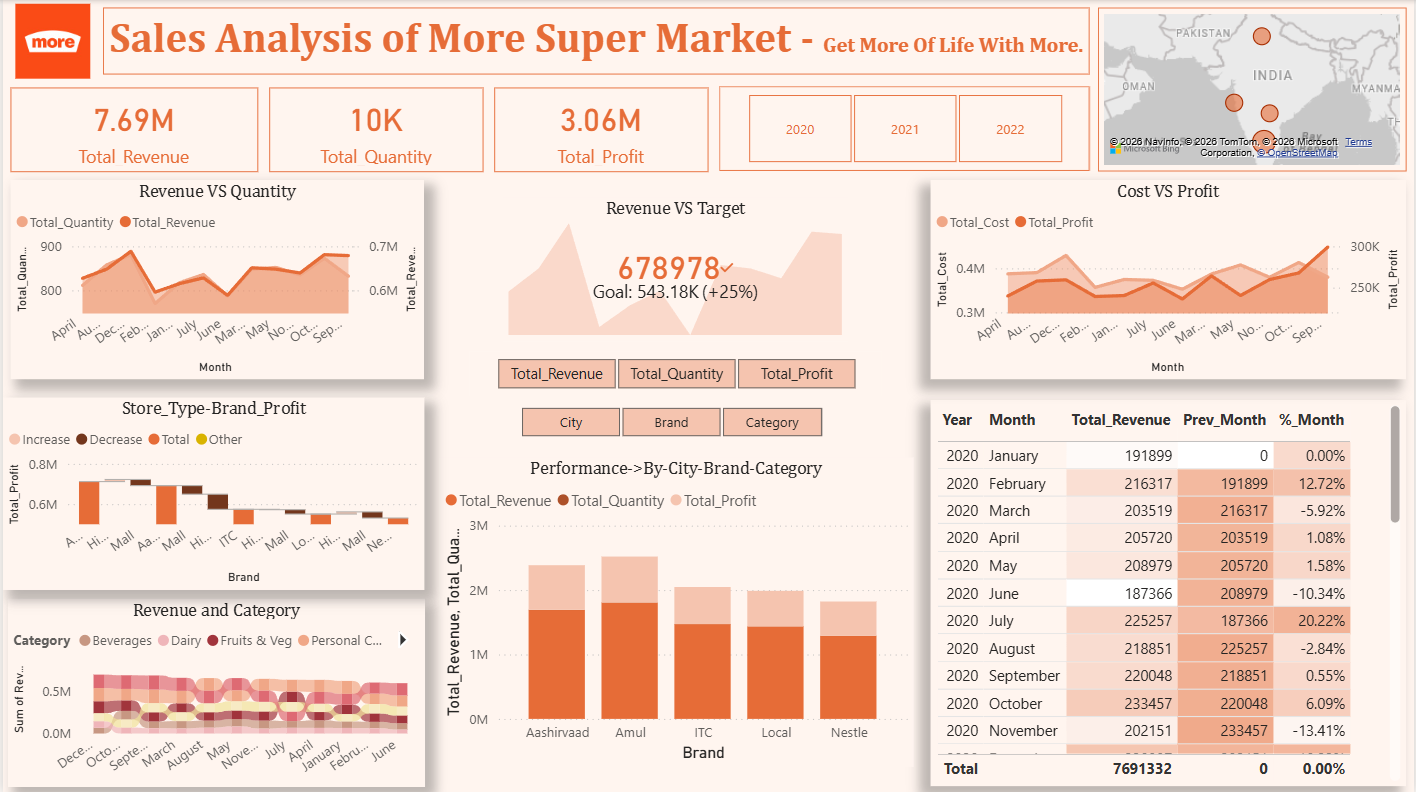

The page's visual inventory and layout, read from the dashboard file:
{"tool":"powerbi","page":{"name":"More_Sale_Analysis","canvas":[1280,720],"ordinal":1},"visuals":[{"type":"card","fields":{"Values":["Project_Measures.Toatal_Revenue"]},"box":[7,79.1,224.4,76.7],"z":0},{"type":"card","fields":{"Values":["Project_Measures.Total_Quantity"]},"box":[241.9,79.1,194.2,76.7],"z":1000},{"type":"card","fields":{"Values":["Project_Measures.Total_Profit"]},"box":[445.4,79.1,194.2,76.7],"z":3000},{"type":"tableEx","fields":{"Values":["Dimention_Date.Date.Variation.Date Hierarchy.Year","Dimention_Date.Date.Variation.Date Hierarchy.Month","Project_Measures.Toatal_Revenue","Project_Measures.Prev_Month","Project_Measures.%_Month"]},"box":[841.8,363.1,431.1,350.7],"z":4000},{"type":"areaChart","title":"Revenue VS Quantity ","fields":{"Category":["Dimention_Date.Month"],"Y":["Project_Measures.Total_Quantity"],"Y2":["Project_Measures.Toatal_Revenue"]},"box":[7.1,163.4,375.4,181.1],"z":5000},{"type":"columnChart","title":"Performance->By-City-Brand-Category","fields":{"Category":["Dim_Store.City","Dim_Product.Brand","Dim_Product.Category"],"Y":["Project_Measures.Total_Revenue","Project_Measures.Total_Quantity","Project_Measures.Total_Profit"]},"box":[395.7,415.2,430.2,280.9],"z":6000},{"type":"map","fields":{"Size":["Project_Measures.Toatal_Revenue"],"Category":["Dim_Store.City"]},"box":[993.1,6.8,280.1,148.8],"z":7000},{"type":"areaChart","title":"Cost VS Profit ","fields":{"Category":["Dimention_Date.Month"],"Y2":["Project_Measures.Total_Profit"],"Y":["Project_Measures.Total_Cost"]},"box":[841.8,163.4,431.1,181.1],"z":8000},{"type":"slicer","fields":{"Values":["Dimention_Date.Year"]},"box":[649.9,78.3,335.7,77.1],"z":9000},{"type":"ribbonChart","title":"Revenue  and Category","fields":{"Y":["Sum(Fact_Sales.Revenue)"],"Series":["Dim_Product.Category"],"Category":["Dimention_Date.Month"]},"box":[4.4,543.3,378.1,170.5],"z":10000},{"type":"slicer","fields":{"Values":["Y_Axis.Y_Axis"]},"box":[422.7,319.1,374.5,40.9],"z":11000},{"type":"slicer","fields":{"Values":["X_Axis.X_Axis"]},"box":[444.6,363,322.1,38.6],"z":12000},{"type":"waterfallChart","title":"Store_Type-Brand_Profit","fields":{"Y":["Project_Measures.Total_Profit"],"Category":["Dim_Product.Brand"],"Breakdown":["Dim_Store.Store_Type"]},"box":[0,360.4,382.5,174],"z":13000},{"type":"kpi","title":"Revenue VS Target ","fields":{"Indicator":["Project_Measures.Total_Revenue"],"Goal":["Project_Measures.Target"],"TrendLine":["Dimention_Date.Month"]},"box":[453.6,179.1,312.7,130],"z":14000},{"type":"image","box":[0,3.9,90.5,68.1],"z":15000},{"type":"textbox","box":[90.9,7.3,895.5,60.9],"z":16000}]}

Visuals, with their boxes in screenshot pixels (x1, y1, x2, y2), scaled from the page's 1280x720 canvas onto the 1416x792 screenshot:
card - Project_Measures.Toatal_Revenue: [left=8, top=87, right=256, bottom=171]
card - Project_Measures.Total_Quantity: [left=268, top=87, right=482, bottom=171]
card - Project_Measures.Total_Profit: [left=493, top=87, right=708, bottom=171]
tableEx - Dimention_Date.Date.Variation.Date Hierarchy.Year x Dimention_Date.Date.Variation.Date Hierarchy.Month: [left=931, top=399, right=1408, bottom=785]
"Revenue VS Quantity " areaChart: [left=8, top=180, right=423, bottom=379]
"Performance->By-City-Brand-Category" columnChart: [left=438, top=457, right=914, bottom=766]
map - Project_Measures.Toatal_Revenue x Dim_Store.City: [left=1099, top=7, right=1408, bottom=171]
"Cost VS Profit " areaChart: [left=931, top=180, right=1408, bottom=379]
slicer - Dimention_Date.Year: [left=719, top=86, right=1090, bottom=171]
"Revenue  and Category" ribbonChart: [left=5, top=598, right=423, bottom=785]
slicer - Y_Axis.Y_Axis: [left=468, top=351, right=882, bottom=396]
slicer - X_Axis.X_Axis: [left=492, top=399, right=848, bottom=442]
"Store_Type-Brand_Profit" waterfallChart: [left=0, top=396, right=423, bottom=588]
"Revenue VS Target " kpi: [left=502, top=197, right=848, bottom=340]
image: [left=0, top=4, right=100, bottom=79]
textbox: [left=101, top=8, right=1091, bottom=75]
